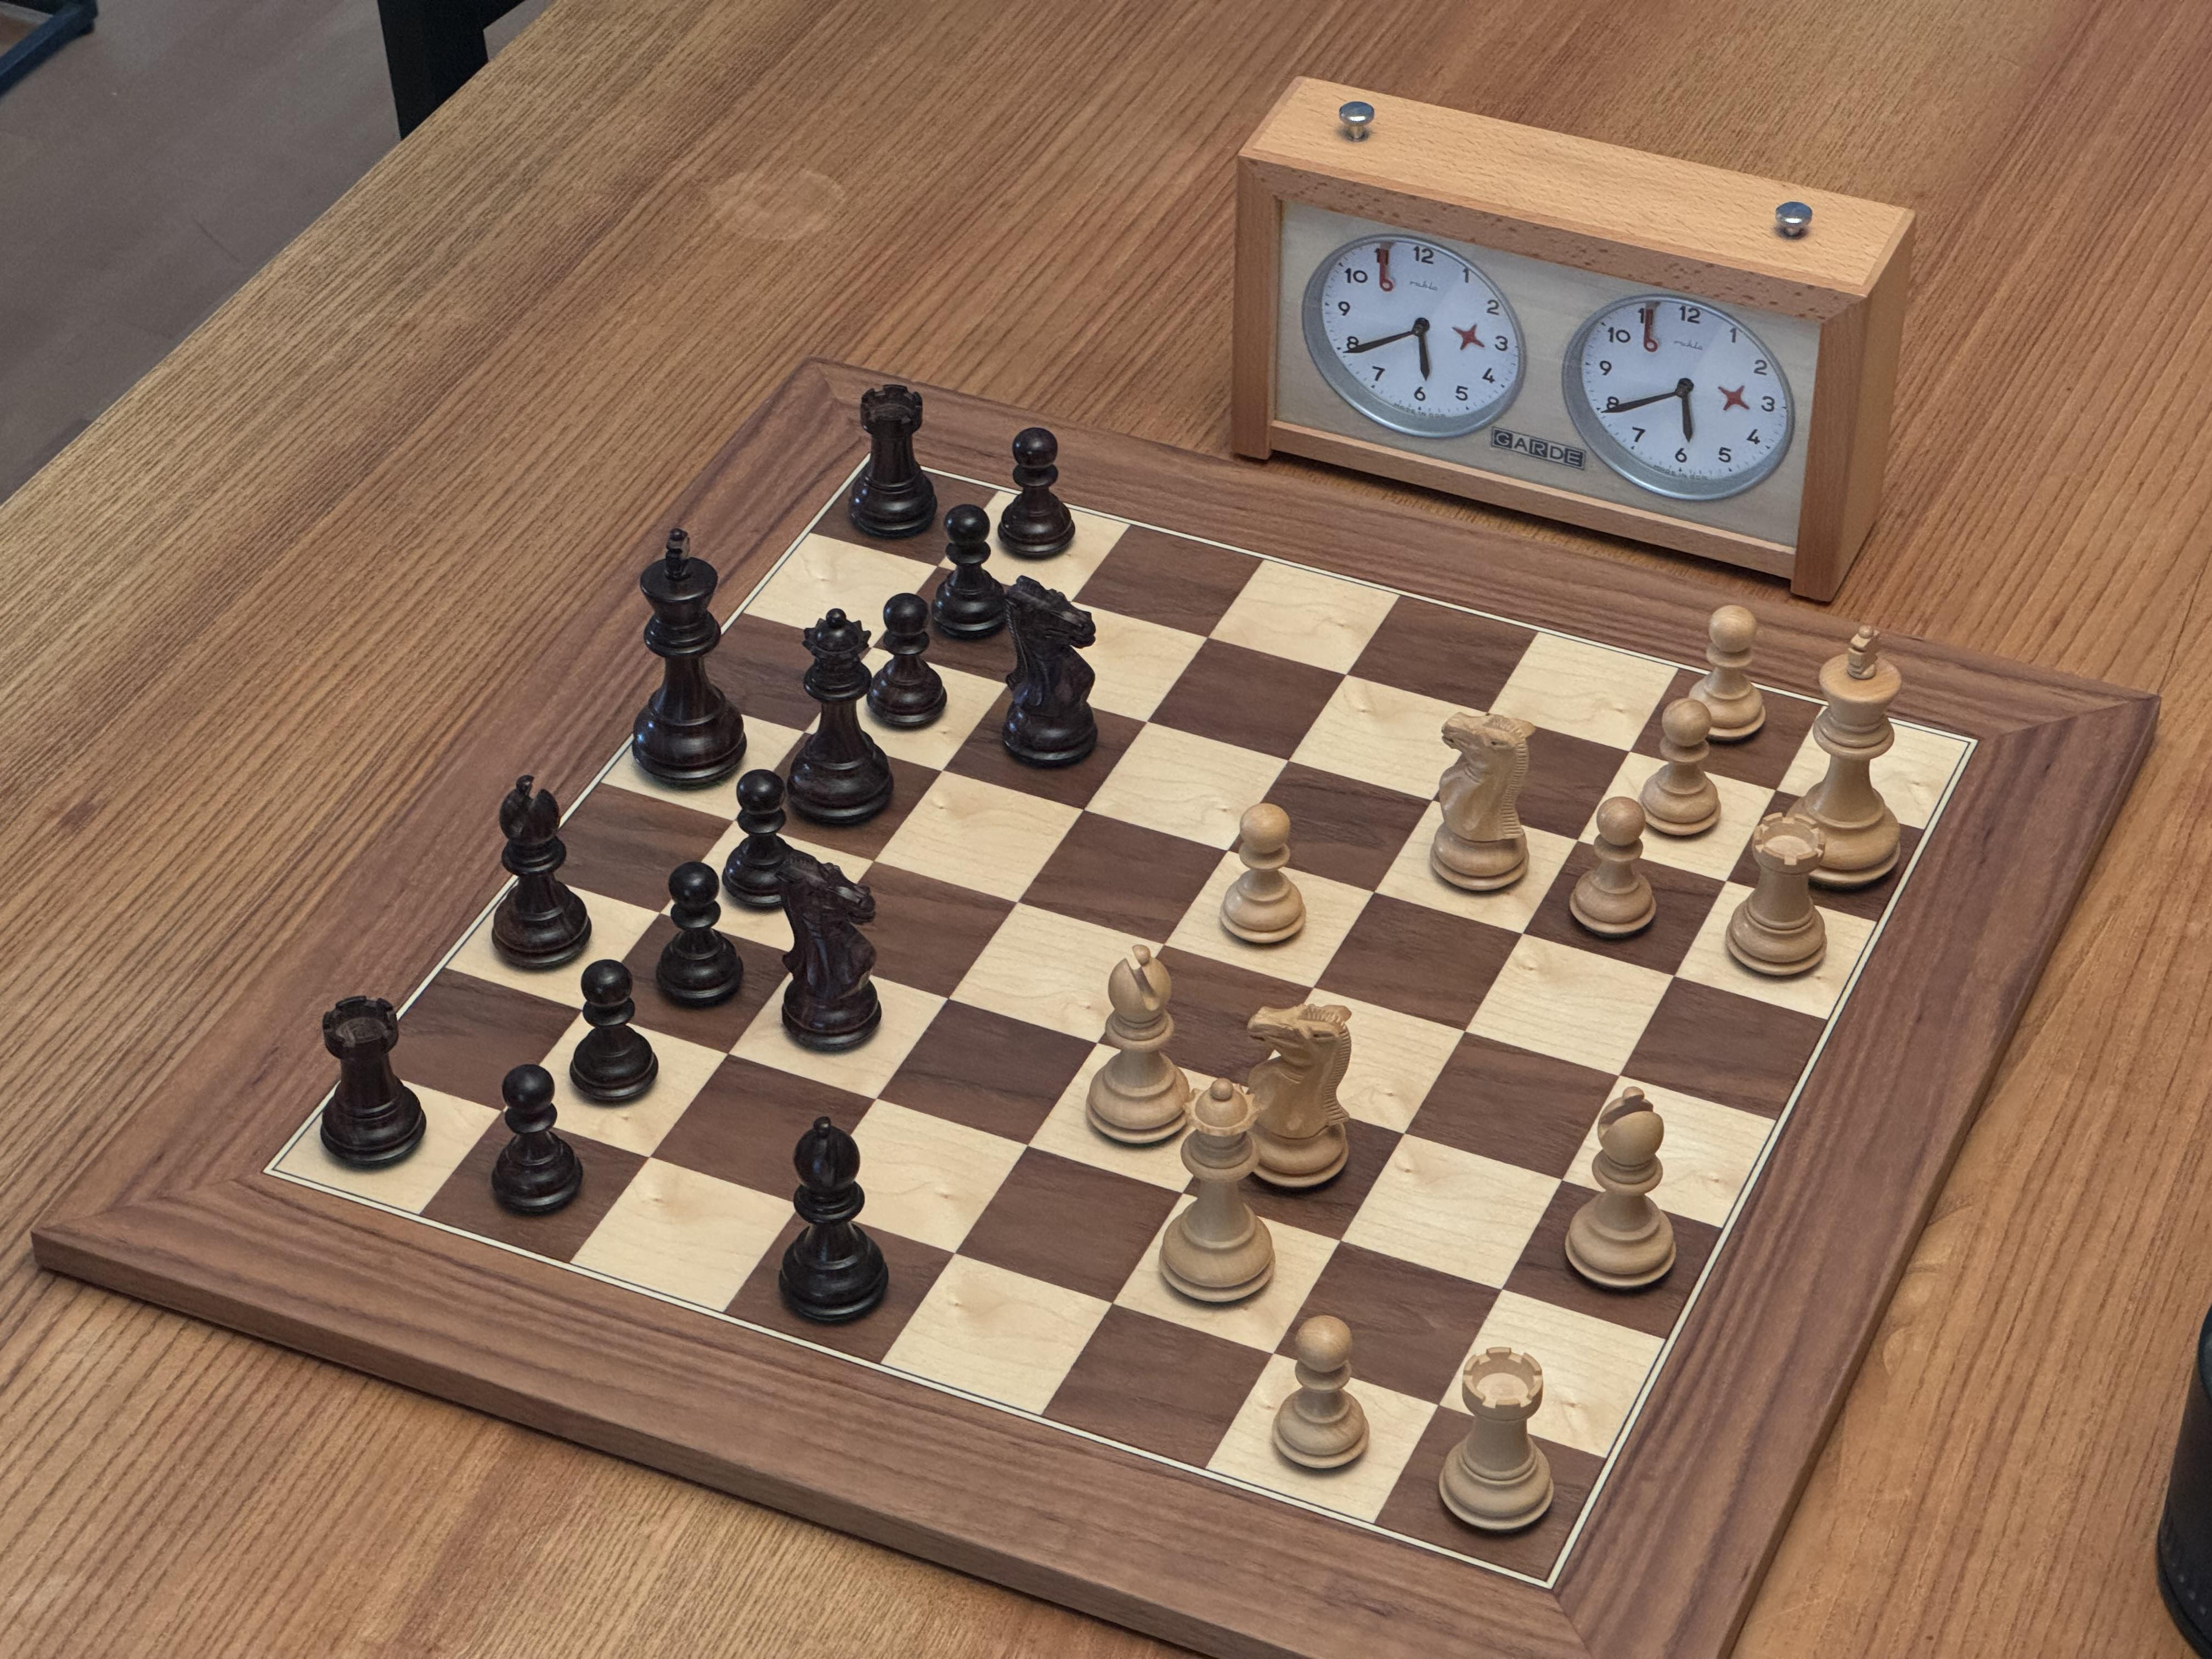Black Bishop: (770, 1112, 894, 1333), (482, 769, 594, 974)
Black King: (625, 523, 751, 793)
Black Knight: (768, 847, 890, 1060), (991, 572, 1113, 774)
Black Pawn: (481, 1058, 587, 1220), (564, 957, 665, 1110), (651, 857, 747, 1016), (718, 765, 815, 917), (925, 498, 1014, 645), (995, 420, 1080, 566), (864, 589, 951, 732)
Black Queen: (777, 605, 897, 833)
Black Rook: (312, 988, 432, 1176), (841, 378, 941, 545)
White Bishop: (1550, 1079, 1688, 1297), (1080, 938, 1197, 1152)
White King: (1780, 619, 1911, 896)
White Knight: (1228, 993, 1364, 1195), (1418, 706, 1541, 906)
White Pawn: (1264, 1302, 1374, 1480), (1562, 793, 1663, 943), (1216, 800, 1315, 951), (1674, 603, 1771, 748), (1637, 697, 1724, 843)
White Queen: (1150, 1077, 1280, 1314)
White Rook: (1430, 1335, 1561, 1541), (1716, 809, 1834, 986)
